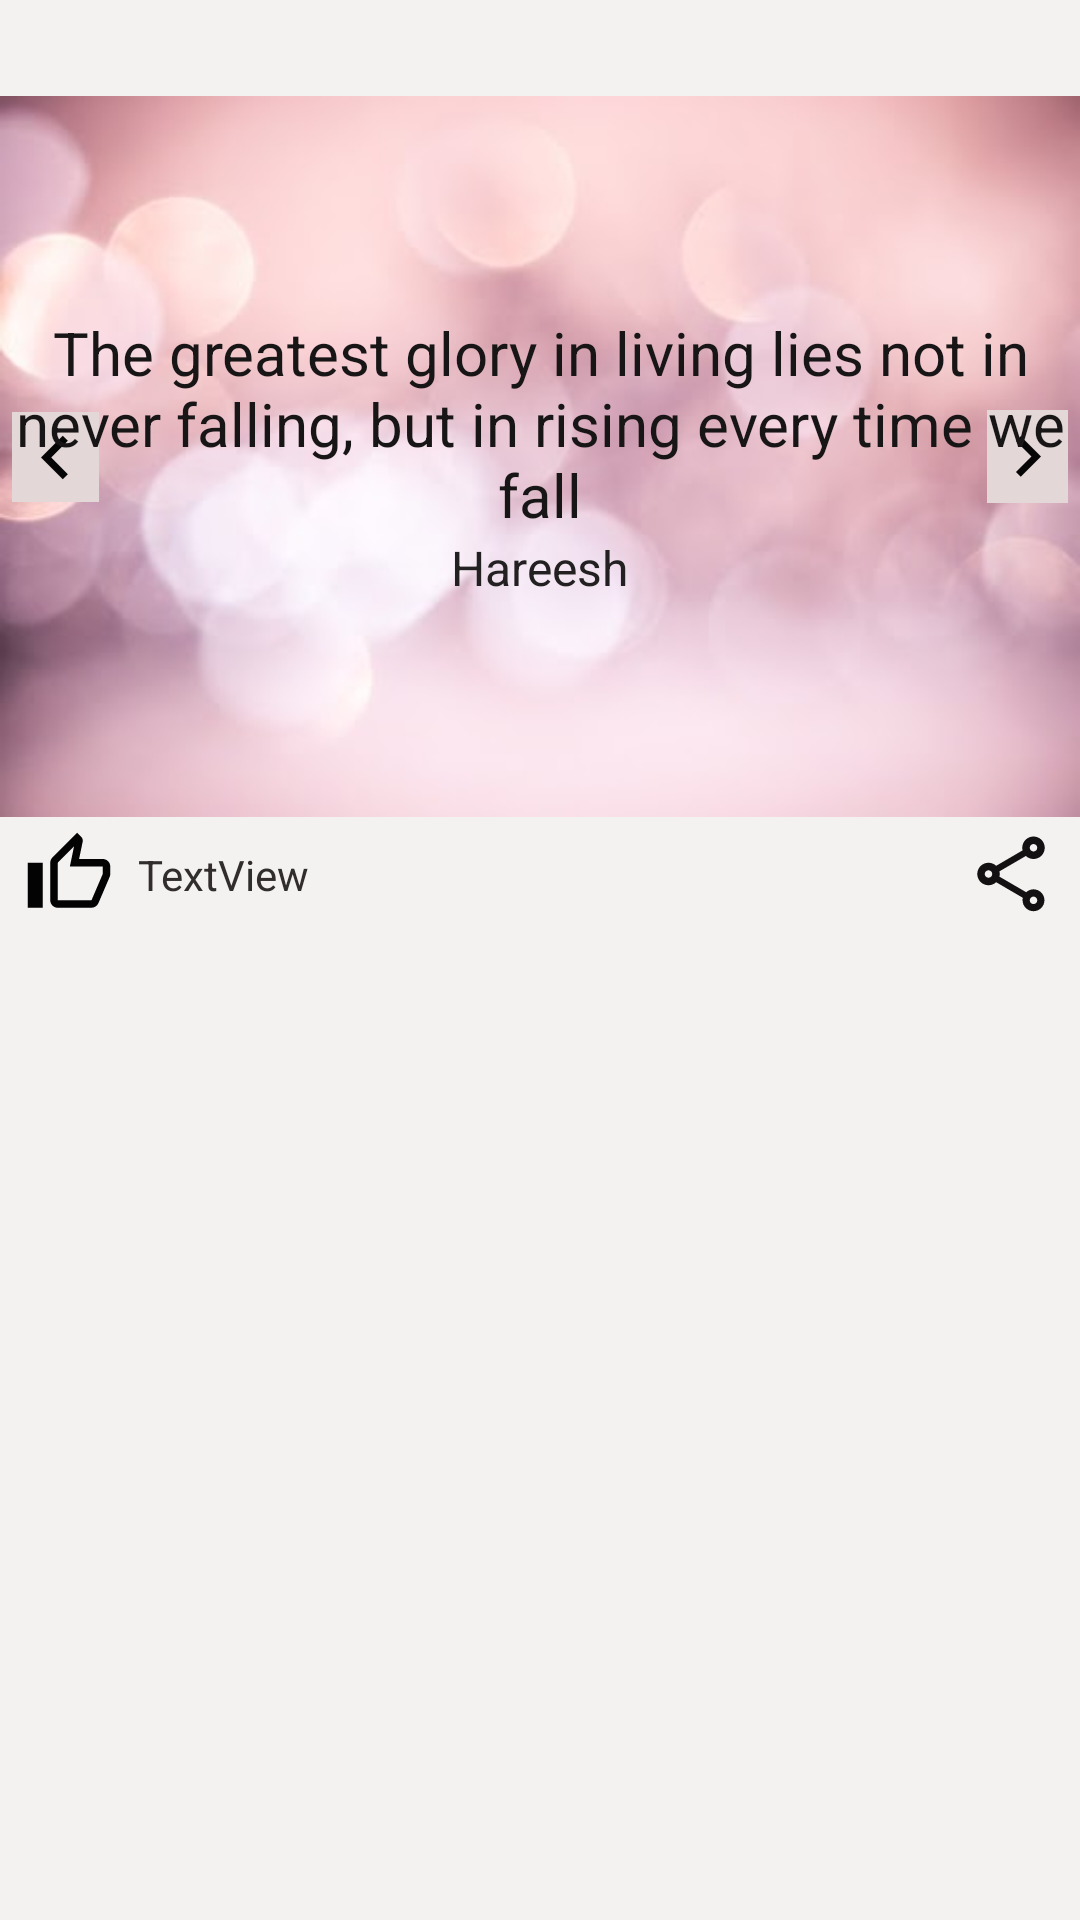

Locate icon controls on the screen. Image size 1080px×1920px, boxes as [x1=x1, y1=y1, x2=x2, y2=y2].
share: [x1=977, y1=836, x2=1045, y2=912]
thumb up: [x1=27, y1=833, x2=111, y2=908]
